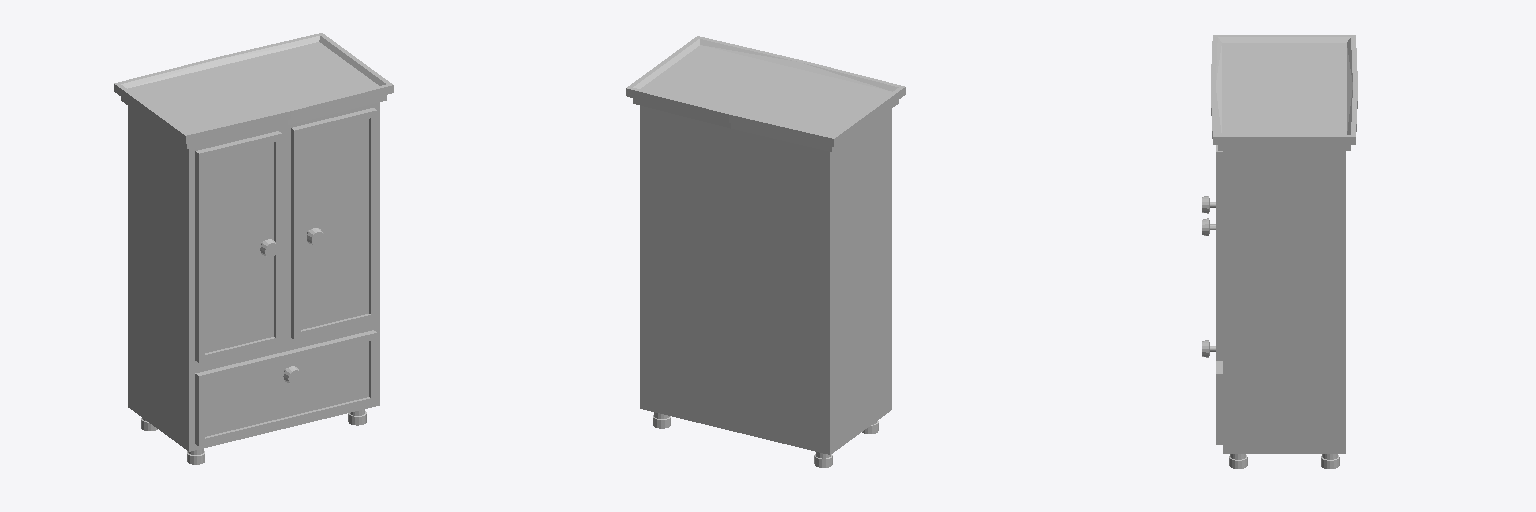
The model's file is wardrobe.obj.
The picture shows the model from 3 angles: view 1: azimuth 30°, elevation 25°; view 2: azimuth 150°, elevation 25°; view 3: azimuth 270°, elevation 25°; orthographic projection.
Visible parts, largest first — view 1: wardrobe1_Cube; view 2: wardrobe1_Cube; view 3: wardrobe1_Cube.
Part boxes in pixels (x1,y1,x2,y2): wardrobe1_Cube: (114,33,393,464); wardrobe1_Cube: (626,36,905,467); wardrobe1_Cube: (1202,35,1357,468).
Size of the model in its own units: 29.12 by 45.47 by 18.93.